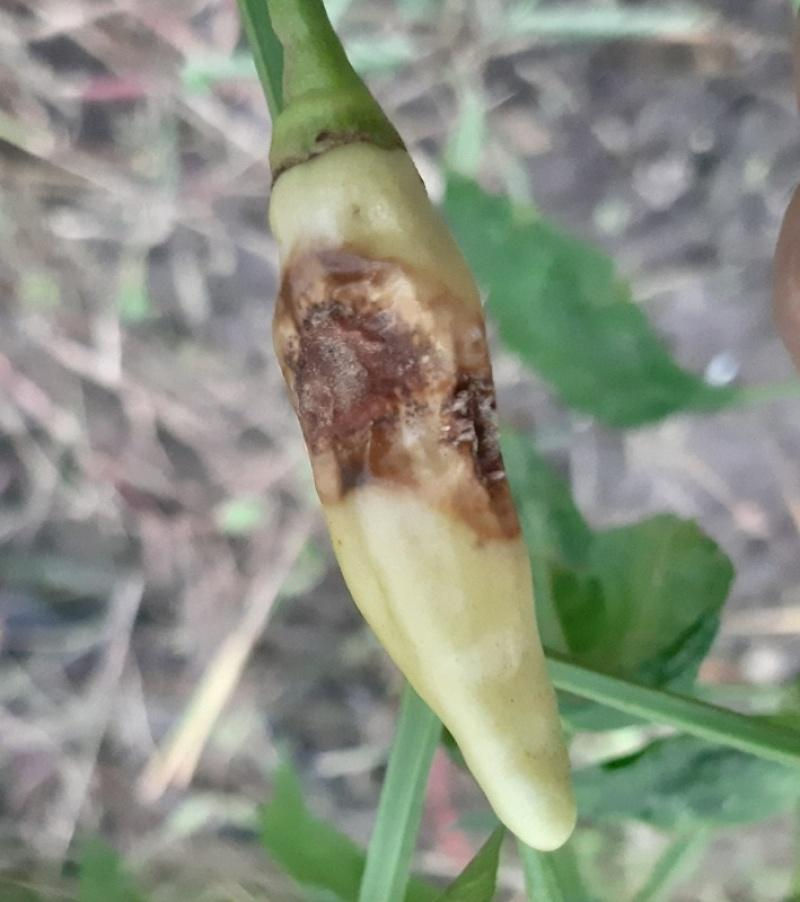antraknosa: (264, 146, 579, 853)
